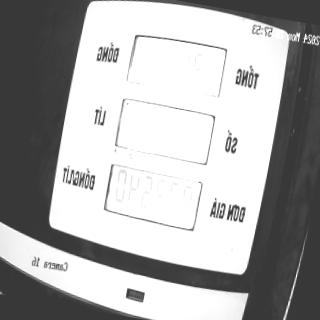screen: (99, 28, 231, 234)
